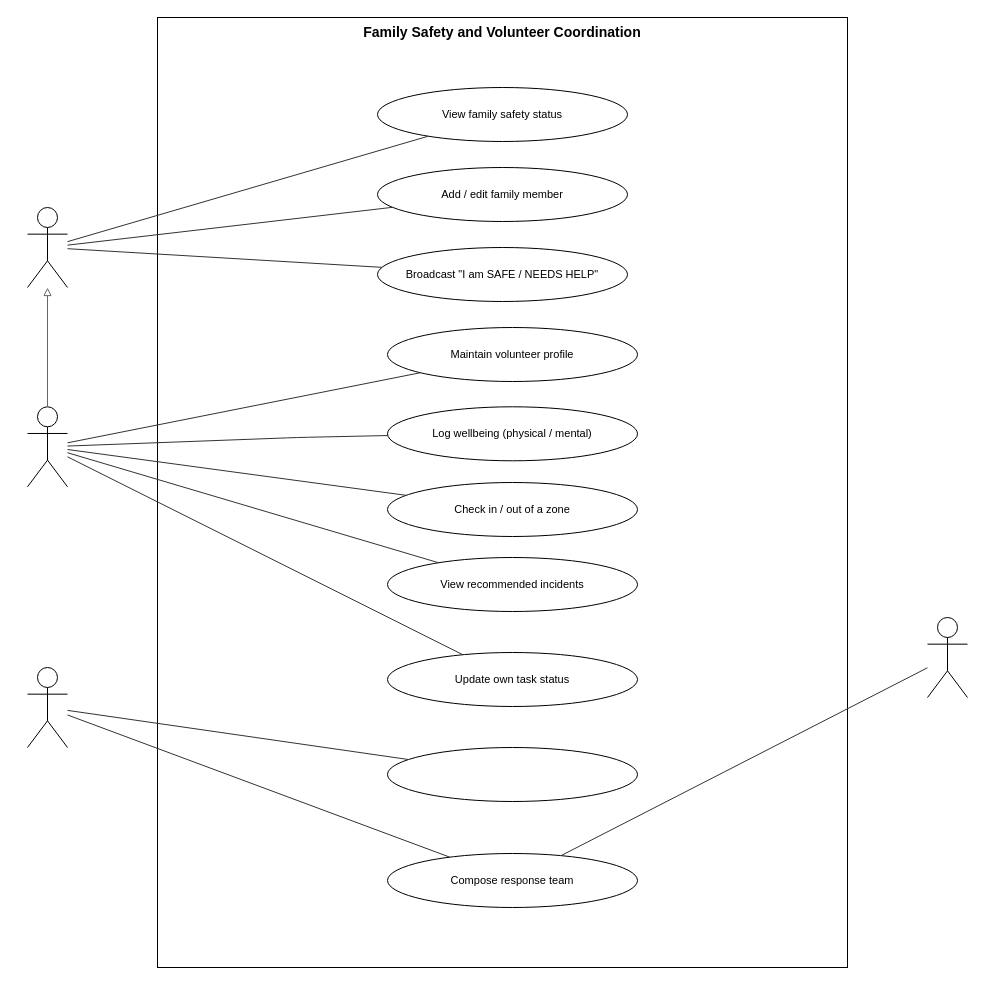
Image size: 992x985. Some labels were removed from this diagram. Each missing label, with the centre of its shape:
"Citizen" goes at (x=47, y=247).
"Create task" goes at (x=512, y=774).
"DMC Officer" goes at (x=47, y=707).
"ML Service" goes at (x=947, y=657).
"Volunteer" goes at (x=47, y=446).
